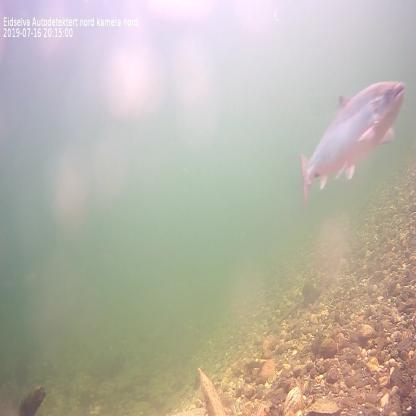salmon: (297, 73, 408, 205)
